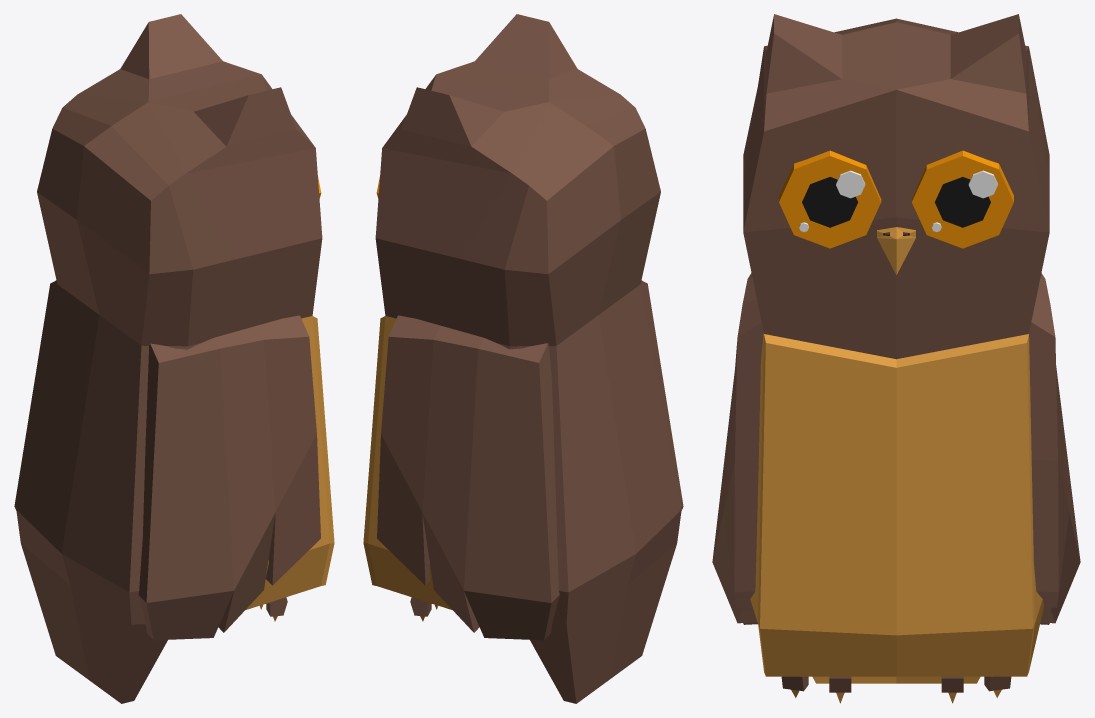
The model's file is baykus.glb.
3 renders of one model, left to right at view 1: azimuth 30°, elevation 25°; view 2: azimuth 150°, elevation 25°; view 3: azimuth 270°, elevation 25°, orthographic. The views are drawn at different scales.
Visible parts, largest first — view 1: Owl_01_Cube.027; view 2: Owl_01_Cube.027; view 3: Owl_01_Cube.027.
Boxes of the visible parts, x1,y1,x2,y2 form: Owl_01_Cube.027: (14,14,334,703); Owl_01_Cube.027: (363,14,683,703); Owl_01_Cube.027: (712,14,1080,703).
Bounding box in the file's own units: 8.88 × 22.1 × 10.14.
